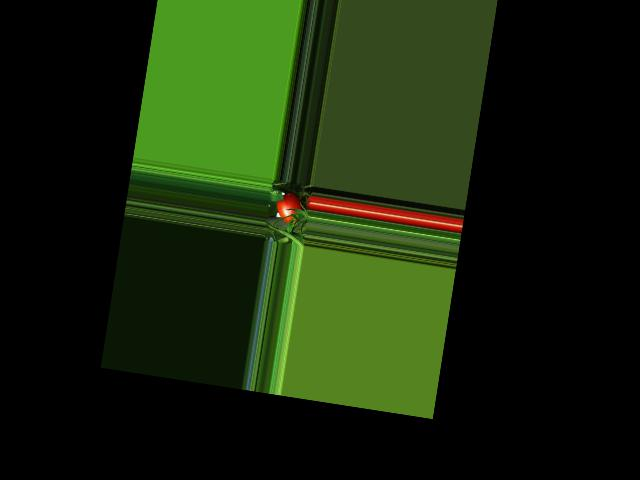tomato: (274, 190, 304, 224)
